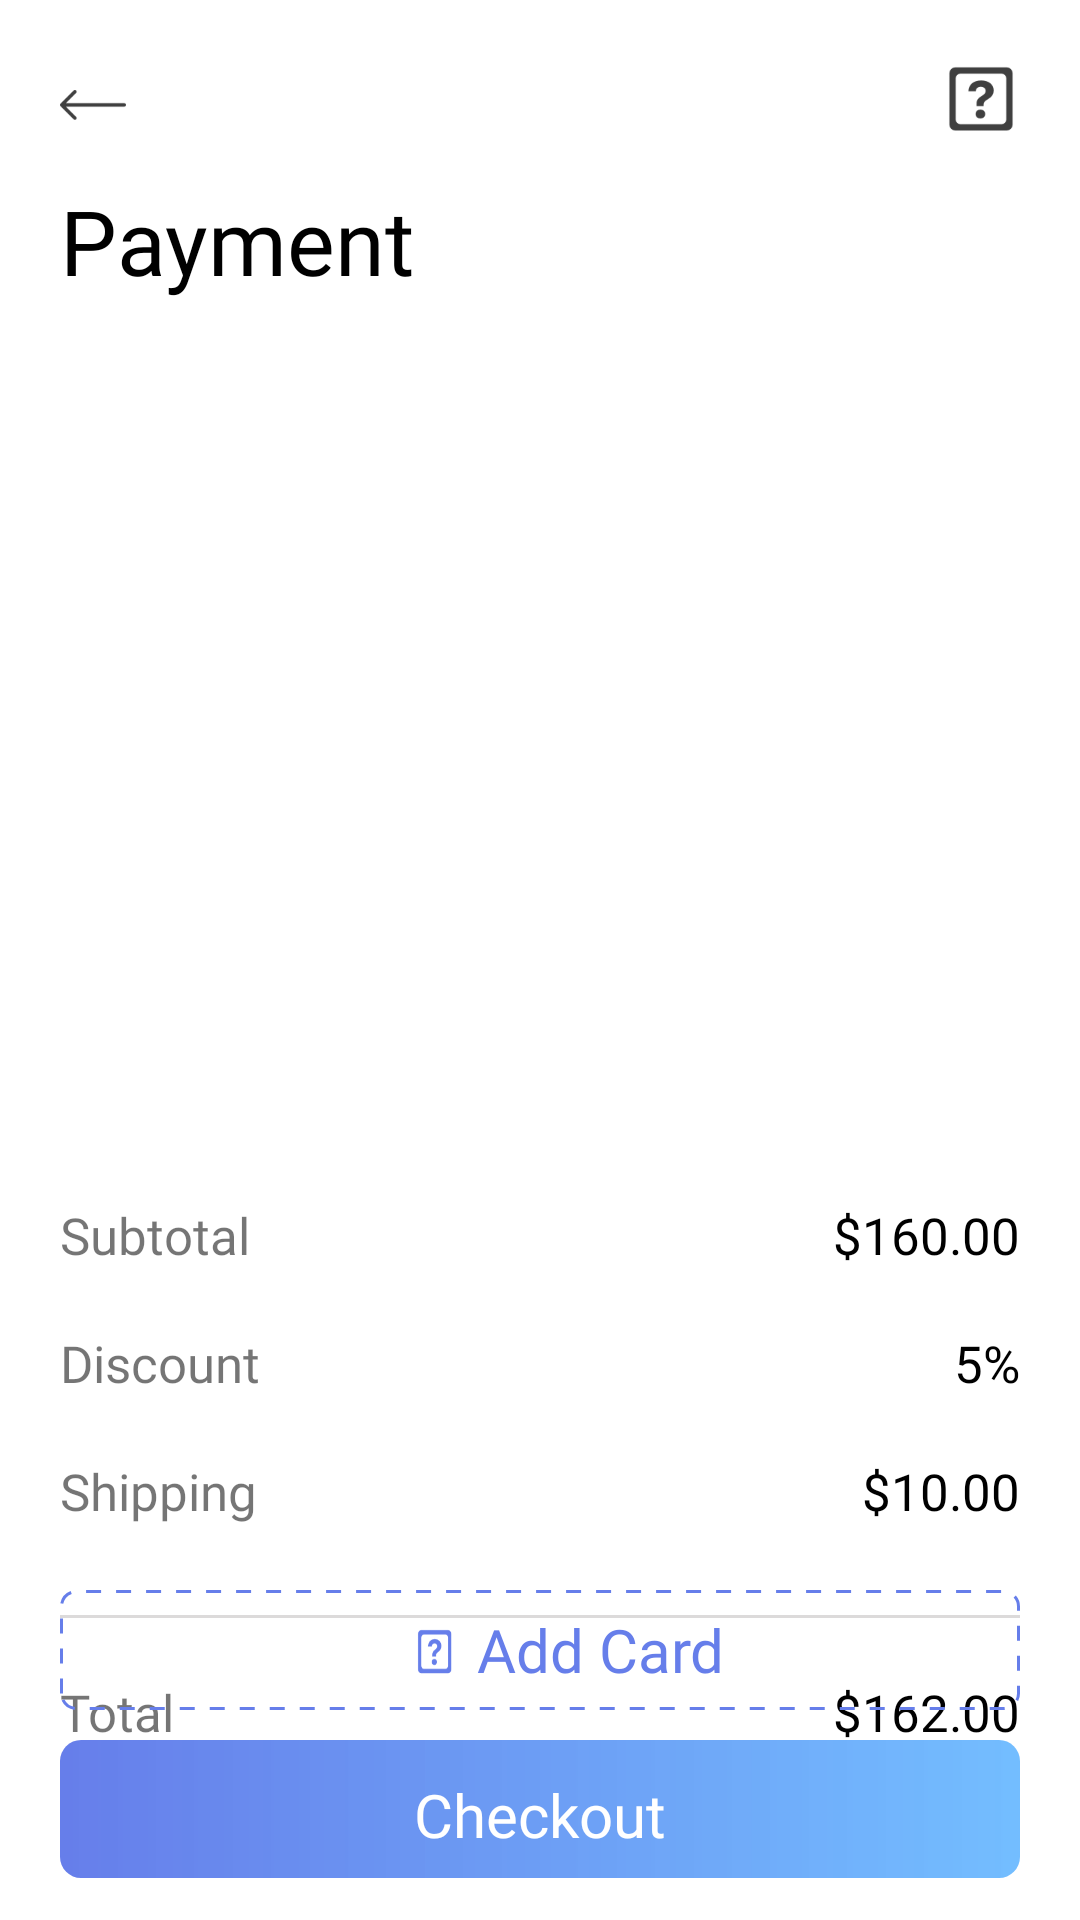

Locate icon controls on the screen. Image size 1080 x 1920, boxes as (left=x1, top=y1, right=x2, bottom=y2).
ask: (left=949, top=67, right=1013, bottom=131)
blueask: (left=418, top=1630, right=452, bottom=1674)
